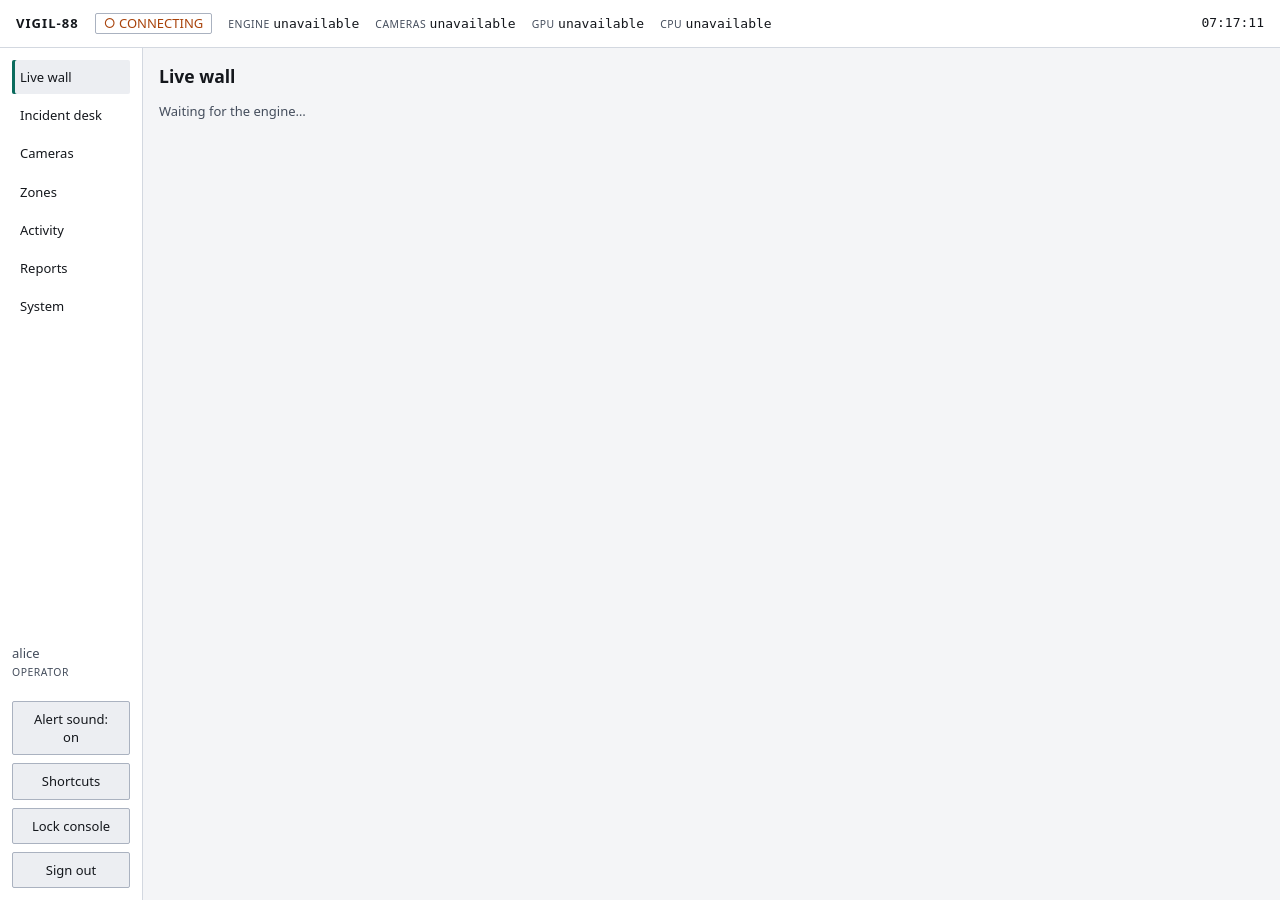
Test: the sound switch › stays on when storage is blocked, because a lost preference must not silence an alarm
Click the button "Alert sound: on": [71, 728] box top-left (12, 701), bottom-right (130, 756)
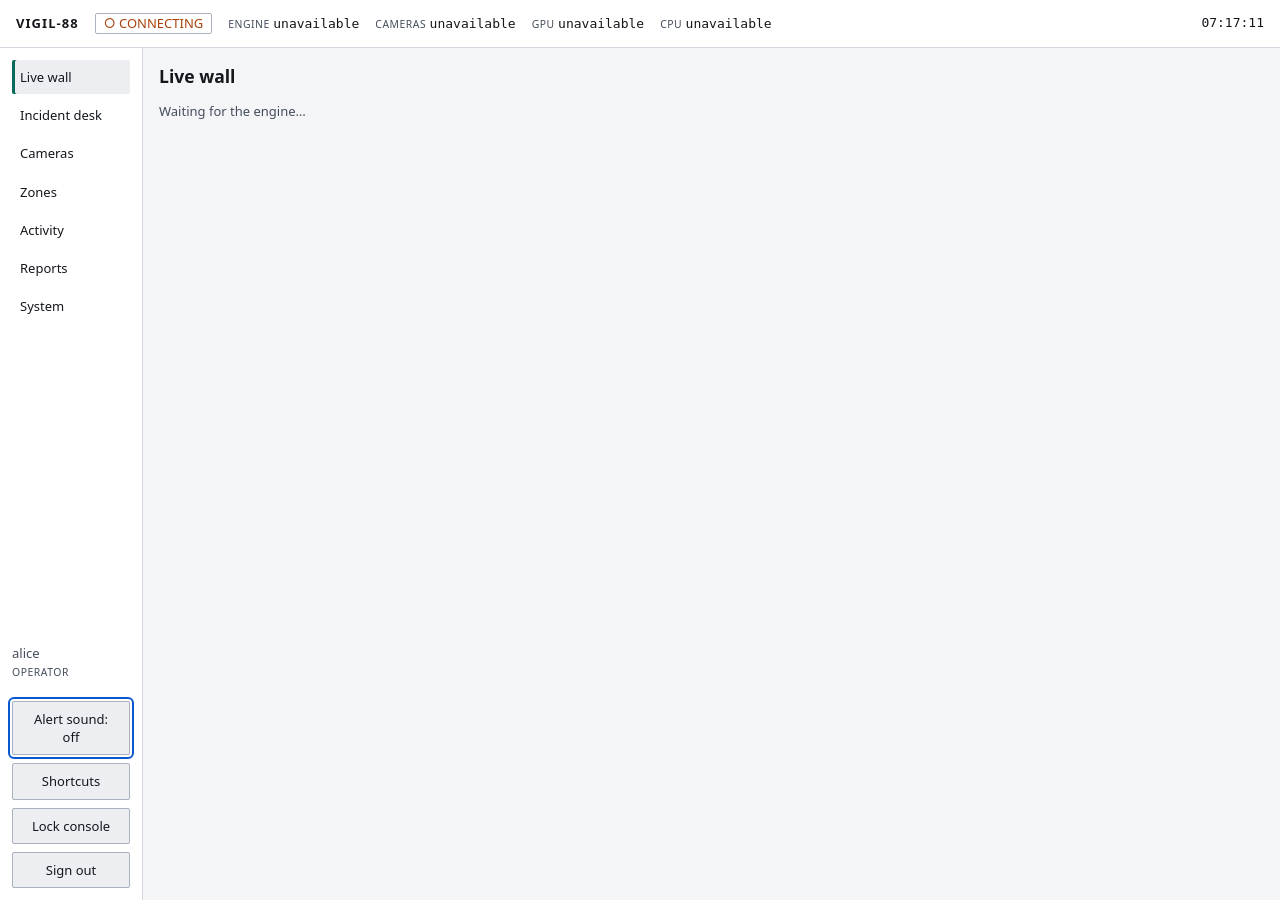
Check: the button "Alert sound: off" is shown, box top-left (12, 701), bottom-right (130, 756)
